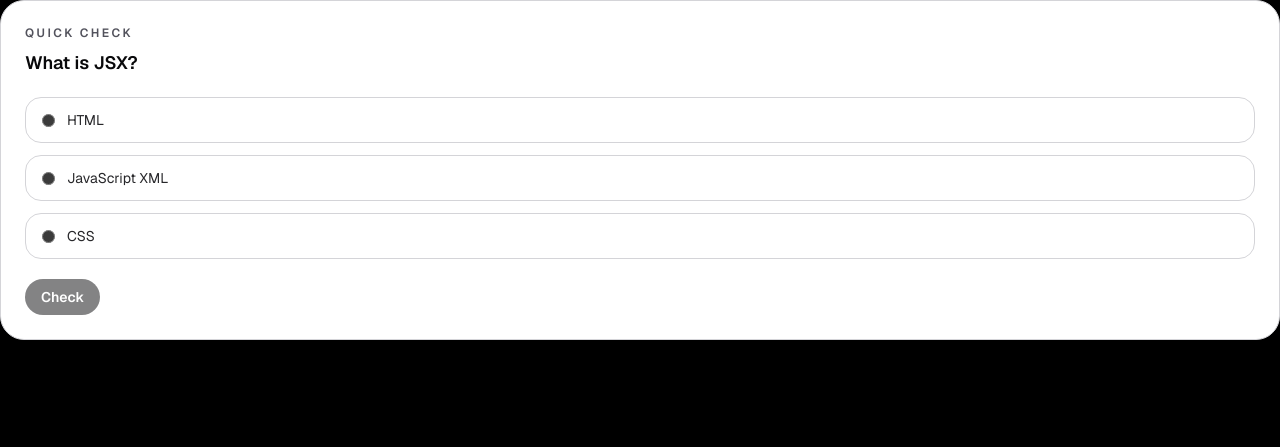
InlineQuiz › shows incorrect feedback on the wrong answer
Click the radio button labelled "HTML".
click(48, 120)  # box [42, 114, 55, 127]
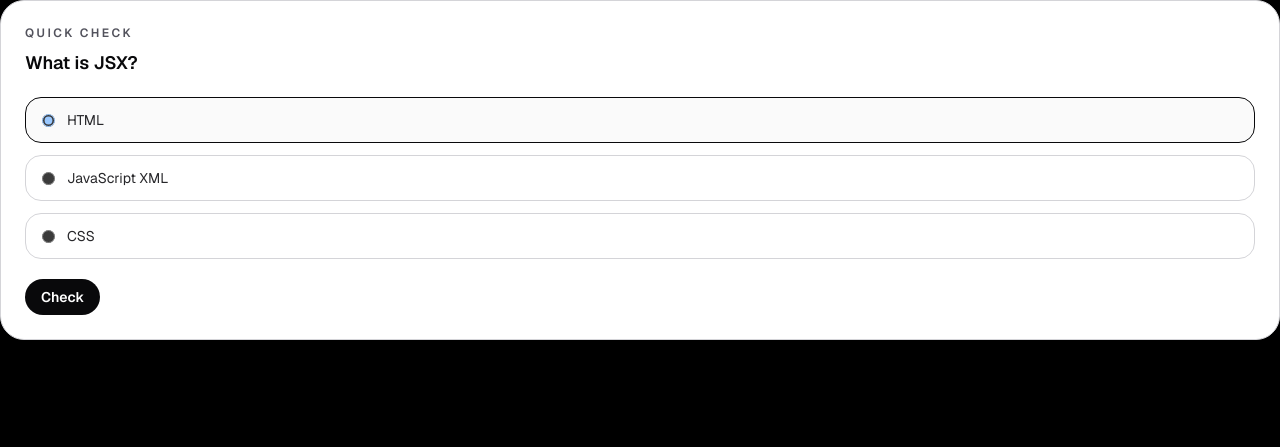
Click the button "Check".
click(63, 297)  # box [25, 279, 100, 315]
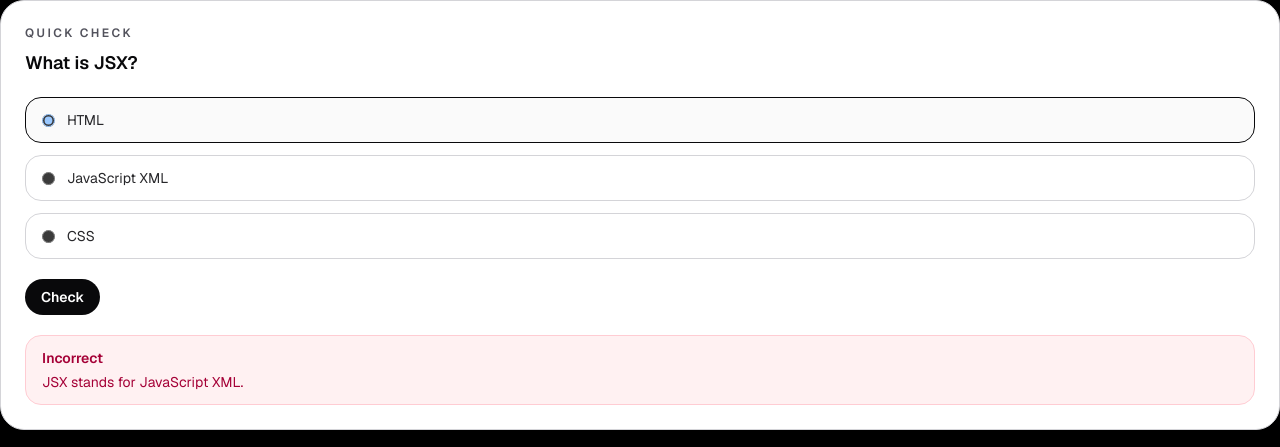
Expected: the element with test id "quiz-feedback" shows "Incorrect", [42, 349, 103, 367]
